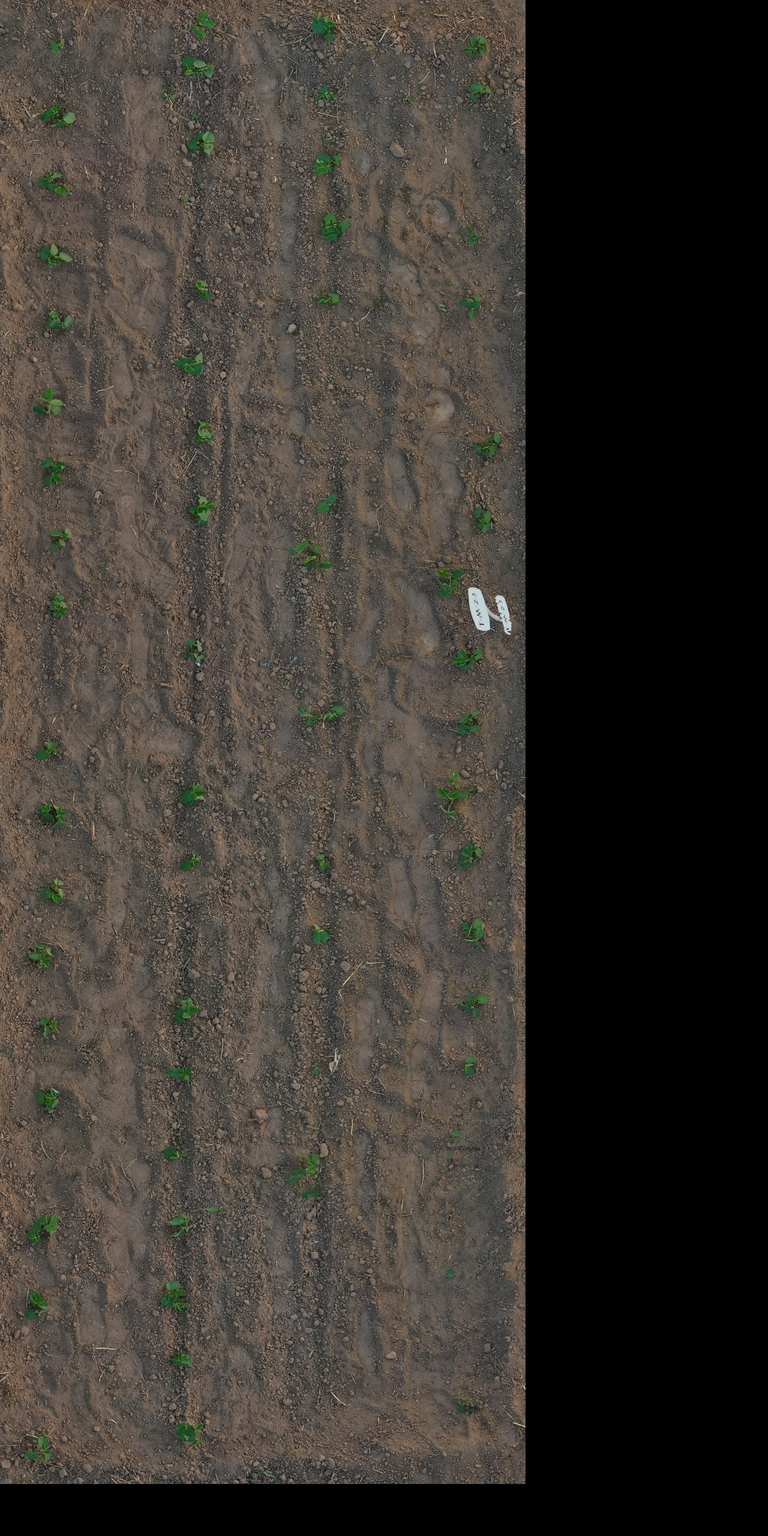s: (437, 770, 469, 821), (288, 540, 334, 571), (434, 568, 465, 598), (189, 494, 216, 525), (321, 219, 350, 242), (172, 356, 203, 376), (160, 1281, 184, 1306), (37, 386, 64, 406), (36, 1213, 59, 1236), (184, 782, 206, 806), (322, 213, 342, 239), (164, 1294, 190, 1314), (181, 784, 208, 803), (311, 11, 333, 34), (181, 55, 203, 77), (297, 705, 320, 726), (450, 647, 470, 671), (172, 998, 190, 1024), (193, 58, 216, 78), (39, 248, 62, 268), (460, 918, 483, 938), (464, 927, 484, 950), (199, 131, 216, 158), (48, 112, 76, 128), (176, 1429, 204, 1445), (167, 1064, 193, 1081), (35, 740, 56, 761), (43, 464, 63, 486), (314, 83, 338, 101), (322, 704, 346, 722), (180, 851, 201, 871), (50, 243, 72, 262), (170, 1350, 193, 1368), (484, 432, 501, 456), (38, 172, 63, 188), (52, 803, 68, 828), (41, 103, 62, 122), (458, 848, 477, 869), (316, 494, 338, 512), (182, 997, 200, 1019), (28, 952, 52, 968), (194, 279, 212, 300), (465, 648, 483, 669), (312, 923, 330, 944), (28, 1290, 49, 1308), (313, 159, 335, 176), (33, 403, 61, 416), (161, 1146, 187, 1160), (37, 1436, 51, 1462), (176, 1422, 204, 1435), (462, 36, 480, 56), (459, 1002, 481, 1018), (322, 15, 336, 40), (464, 991, 489, 1005), (46, 182, 72, 195), (50, 314, 74, 328), (194, 429, 215, 445), (457, 294, 481, 308), (39, 802, 55, 823), (41, 888, 63, 903), (45, 1087, 60, 1109), (28, 1222, 43, 1244), (197, 11, 215, 29), (188, 131, 205, 150), (36, 1092, 53, 1111), (457, 711, 480, 725), (316, 292, 340, 305), (456, 721, 480, 734), (168, 1212, 190, 1226), (316, 152, 341, 164), (466, 300, 481, 320), (39, 458, 66, 469), (49, 593, 65, 611), (480, 510, 492, 534), (464, 842, 482, 858), (24, 1308, 48, 1320), (50, 527, 72, 540), (45, 310, 59, 330), (470, 82, 493, 94), (172, 1224, 193, 1237), (197, 419, 212, 437), (316, 853, 330, 872), (474, 506, 485, 530), (52, 879, 64, 901), (463, 1055, 476, 1075), (194, 351, 204, 376), (40, 1016, 51, 1038), (50, 538, 66, 553), (34, 944, 54, 956), (24, 1450, 44, 1462), (463, 85, 477, 102), (55, 601, 69, 618), (186, 638, 203, 652), (472, 444, 490, 457), (476, 35, 487, 56), (50, 38, 65, 53), (192, 23, 205, 40), (186, 652, 206, 663), (468, 233, 480, 247), (310, 1060, 319, 1075), (48, 1019, 58, 1031), (467, 226, 474, 236), (50, 750, 60, 757), (323, 926, 331, 934)
